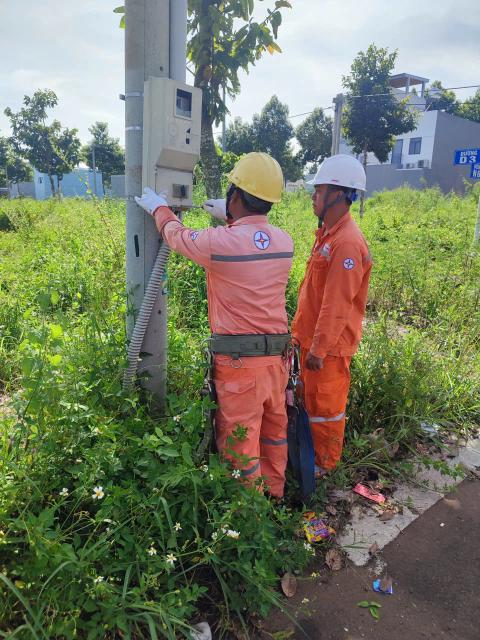gloves: (131, 180, 179, 219), (192, 197, 237, 225)
harness: (188, 309, 293, 370)
helmet: (225, 151, 295, 210), (319, 147, 377, 201)
